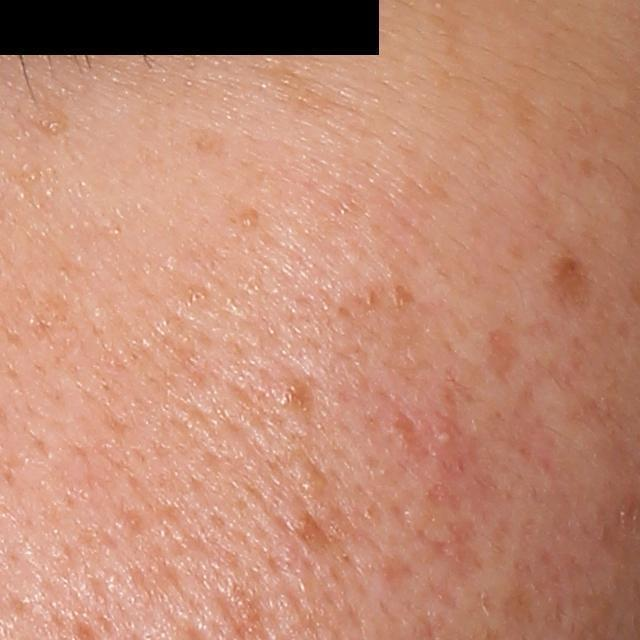melasma: (250, 52, 360, 121), (545, 251, 603, 317), (183, 128, 233, 158), (508, 86, 536, 138)
